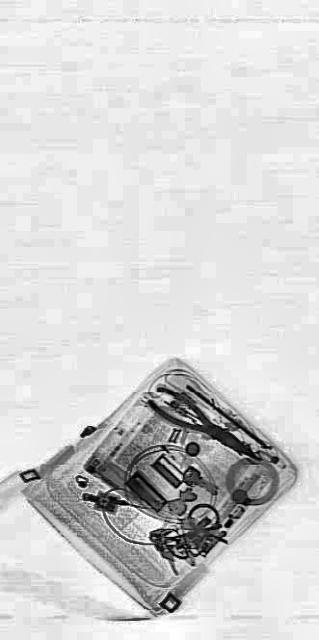Pliers: (146, 378, 262, 470)
